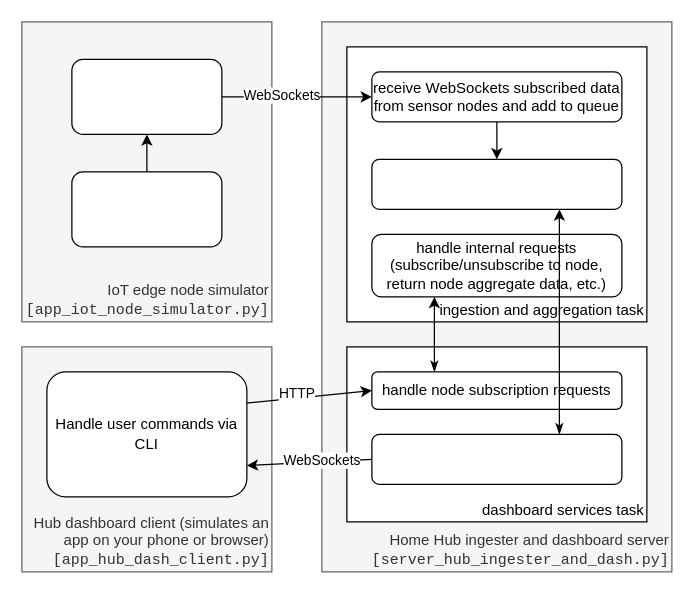
The diagram is 694 pixels wide and 594 high, and some of its shapes have lost their labels. The centre of each missing label's shape, as x and y in pixels:
"aggregate data from queue every N seconds" goes at (496,183).
"publish node aggregate data via WebSockets" goes at (496,458).
"Random sensor data generator" goes at (146,209).
"Websockets server publishes data every N seconds" goes at (146,96).
